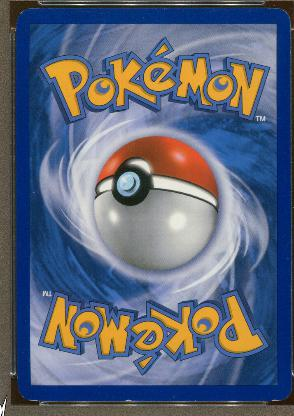Card: (15, 6, 291, 404)
Corner Wear: (20, 393, 40, 401), (267, 395, 287, 401), (17, 9, 24, 16), (280, 8, 286, 14)
Edge Wear: (121, 398, 136, 401), (246, 8, 269, 8)
